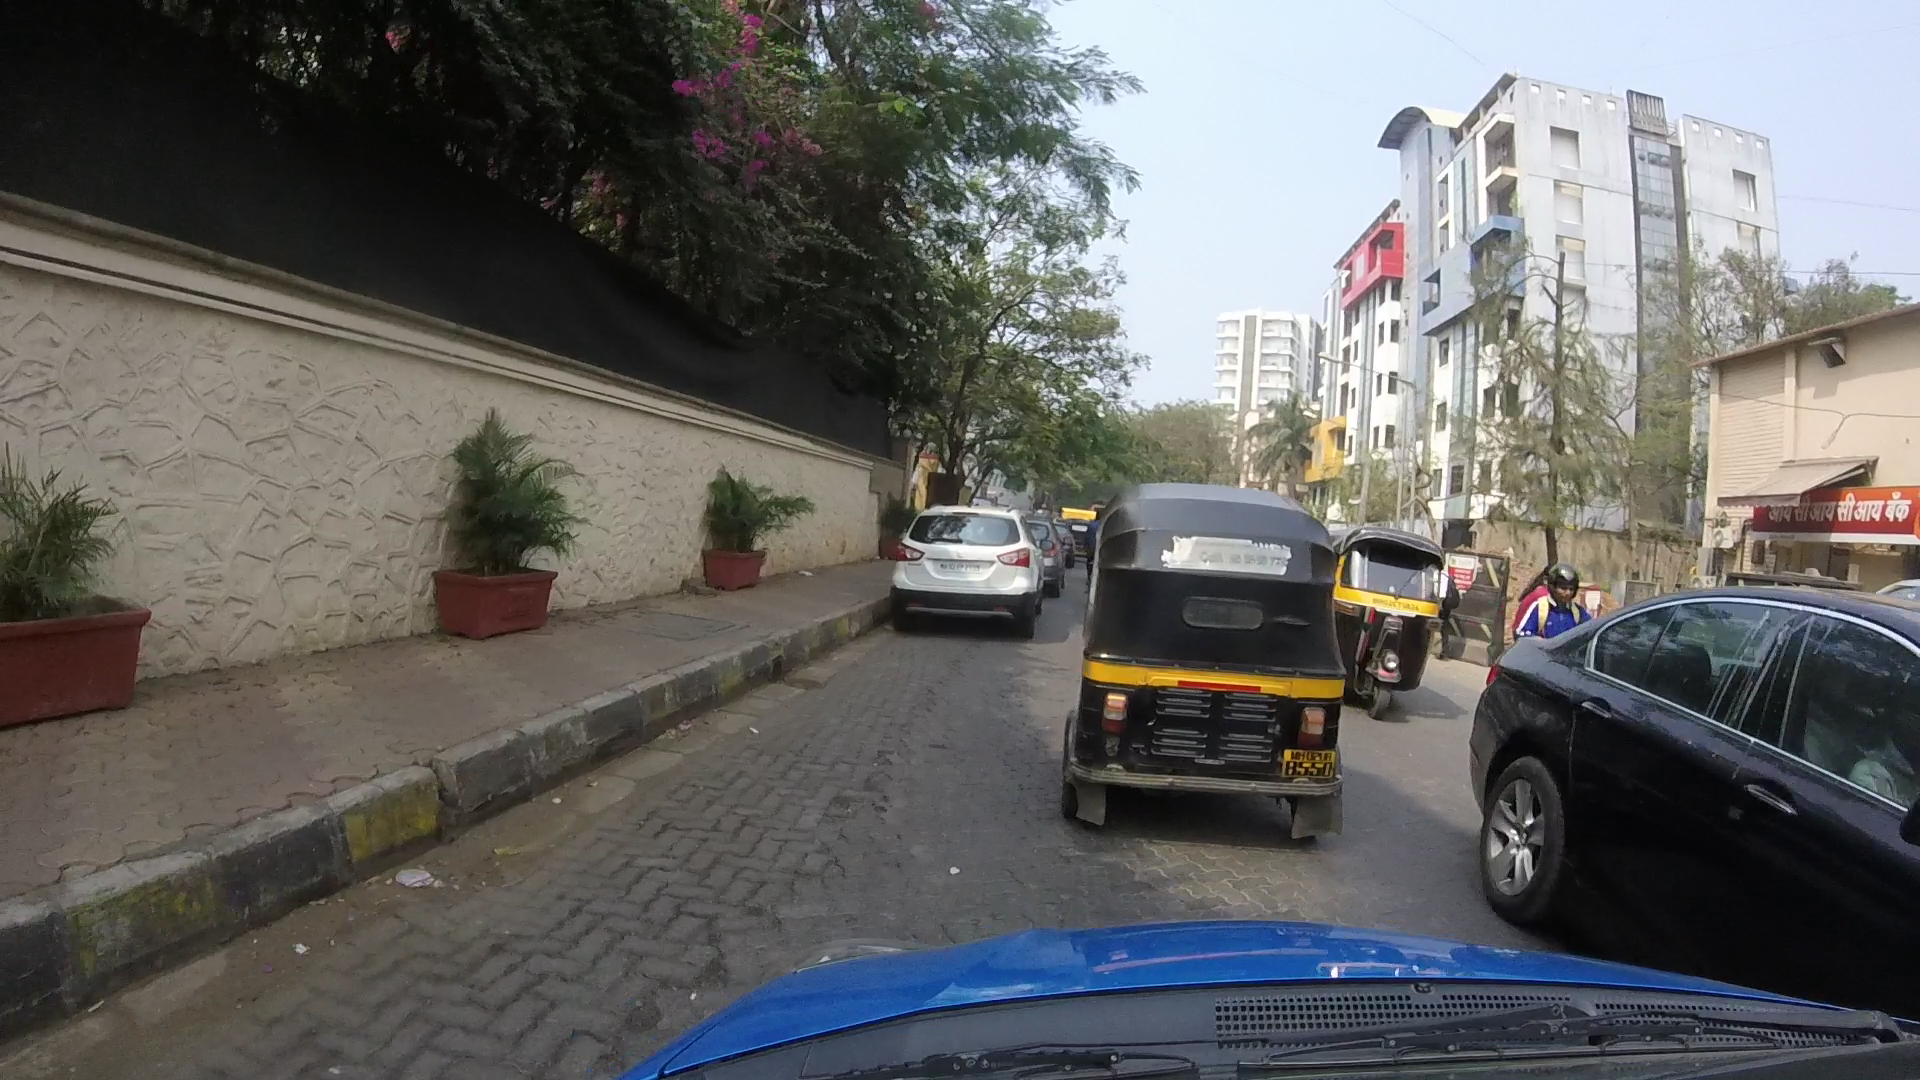car: (1466, 585, 1920, 1007), (898, 504, 1040, 633)
rickshaw: (1067, 481, 1346, 849), (1328, 527, 1437, 715)
